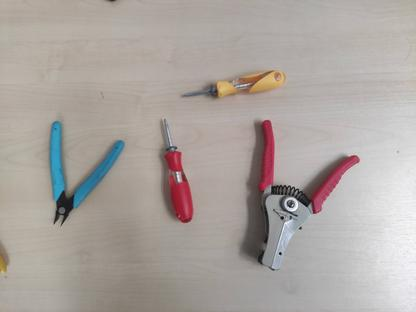Screwdriver: (158, 114, 197, 224), (178, 68, 287, 101)
